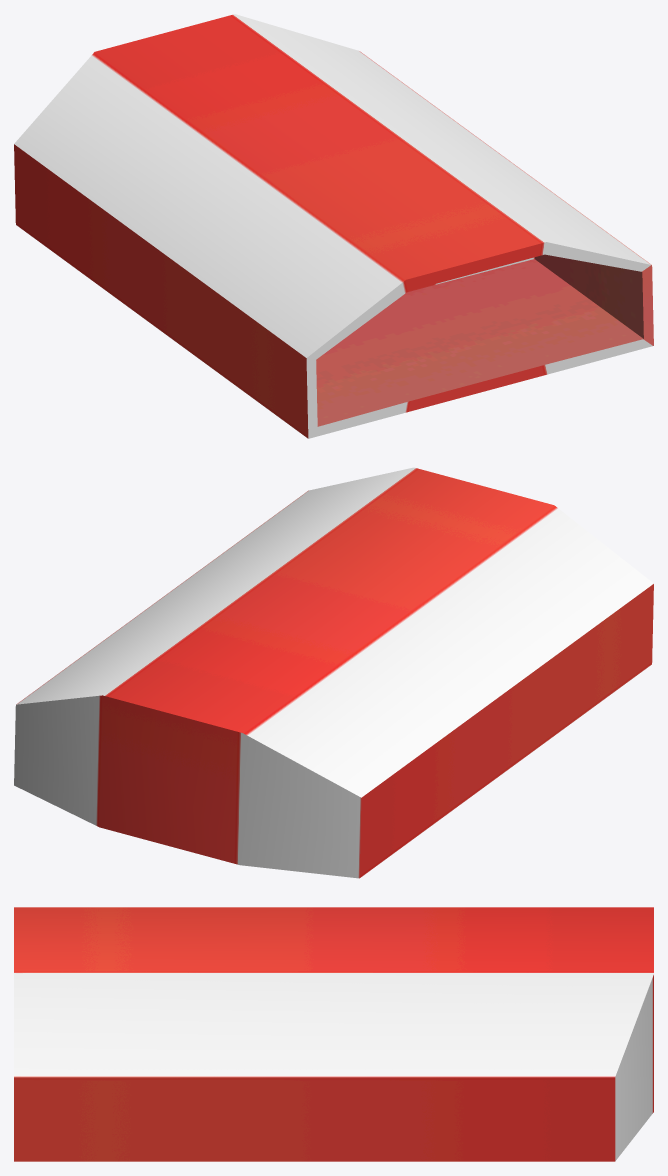
Rendered from FryHolder.obj.
3 views of the same model, one above another, from view 1: azimuth 30°, elevation 25°; view 2: azimuth 150°, elevation 25°; view 3: azimuth 270°, elevation 25° (orthographic). The views are drawn at different scales.
Parts seen in each view (by area): view 1: pCube6 polySurface15 polySurface21 polySurface1; view 2: pCube6 polySurface15 polySurface21 polySurface1; view 3: pCube6 polySurface15 polySurface21 polySurface1.
Part boxes in pixels (left/top/right/bottom): pCube6 polySurface15 polySurface21 polySurface1: left=14, top=14, right=653, bottom=438; pCube6 polySurface15 polySurface21 polySurface1: left=14, top=467, right=653, bottom=878; pCube6 polySurface15 polySurface21 polySurface1: left=14, top=907, right=653, bottom=1161.
Bounding box in the file's own units: 30.04 × 11.47 × 46.63.
1 material, 1 textured.
